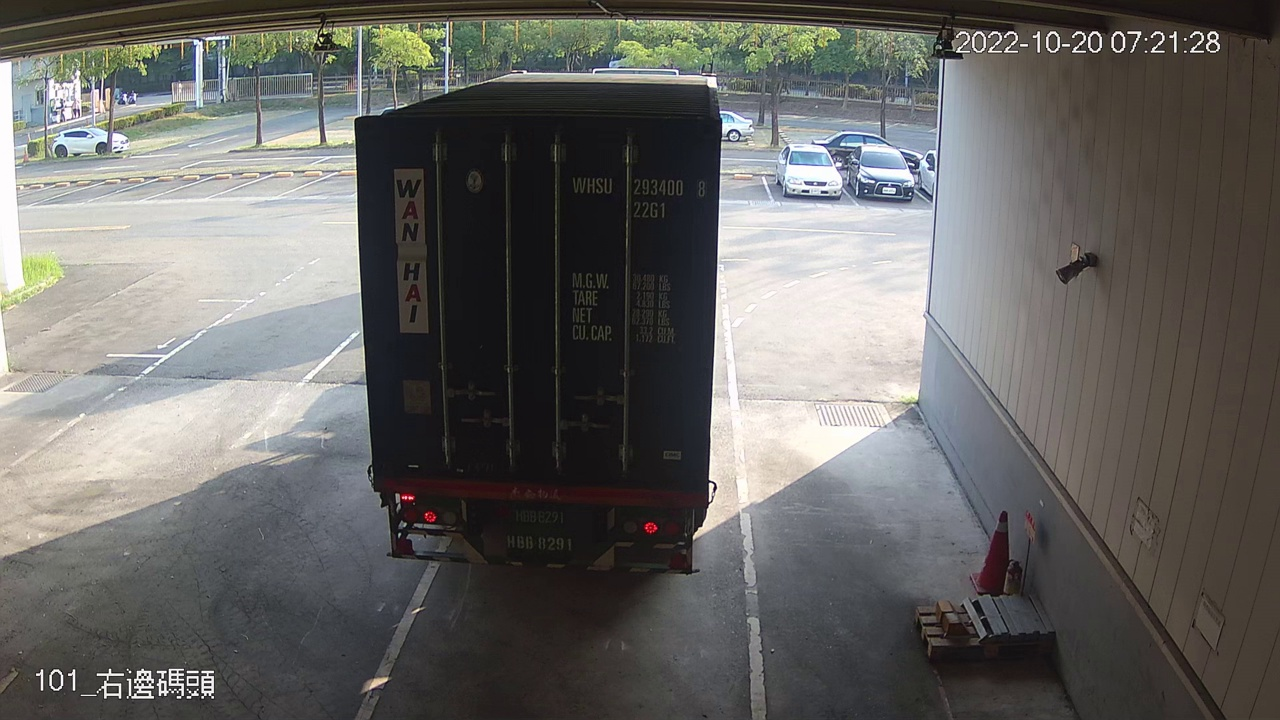container: (563, 166, 712, 223)
